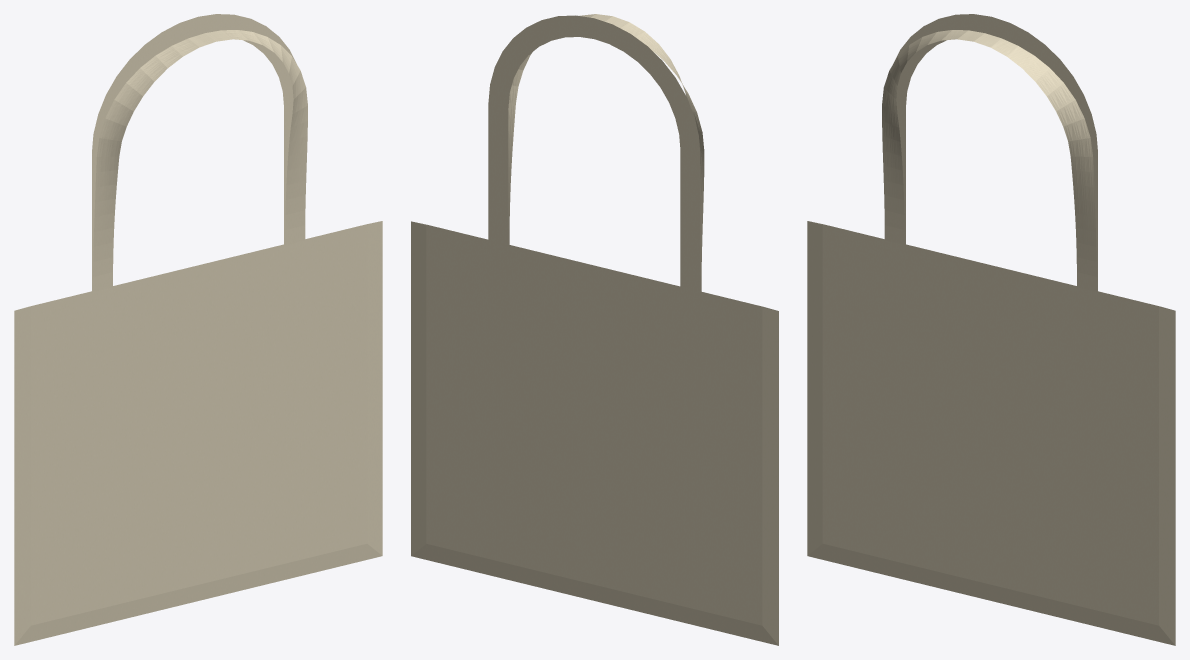
The model's file is flat_two_panel_bag_coarse.obj.
The picture shows the model from 3 angles, left to right: view 1: azimuth 30°, elevation 25°; view 2: azimuth 150°, elevation 25°; view 3: azimuth 330°, elevation 25°; orthographic projection.
Bounding box in the file's own units: 0.46 × 0.6966 × 0.0399.
Materials: 1 (1 with a texture image).
